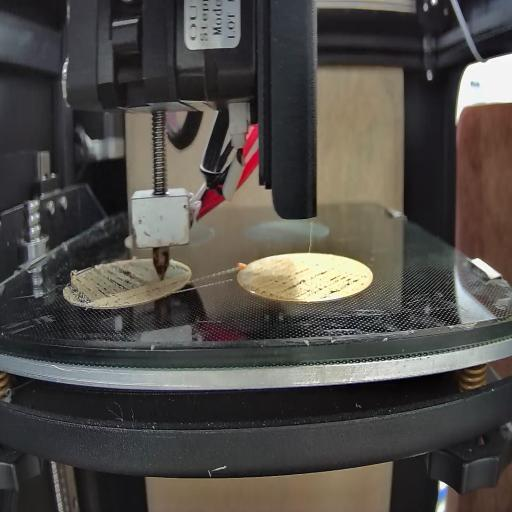under_extrusion: (246, 267, 372, 305), (64, 261, 151, 302)
